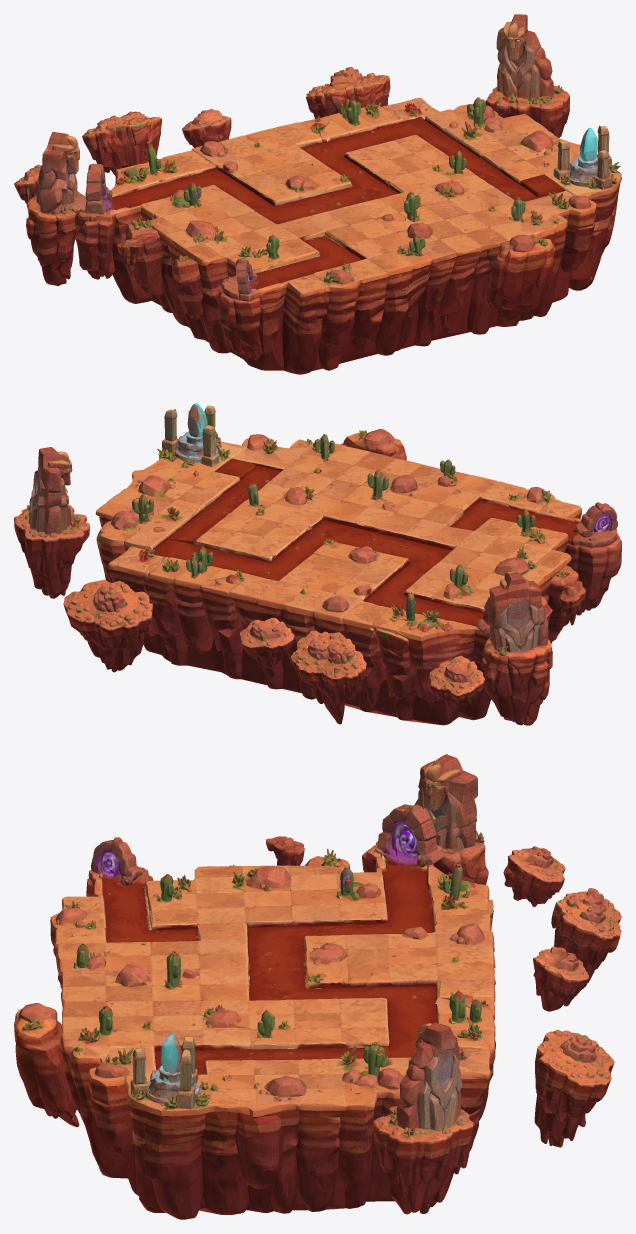
File: canyon.glb
The picture shows the model from 3 angles, top to bottom: view 1: azimuth 30°, elevation 25°; view 2: azimuth 150°, elevation 25°; view 3: azimuth 270°, elevation 25°; orthographic projection. The views are drawn at different scales.
Parts seen in each view (by area): view 1: Mesh_0; view 2: Mesh_0; view 3: Mesh_0.
Boxes of the visible parts, x1,y1,x2,y2 form: Mesh_0: (14,14,621,374); Mesh_0: (14,403,621,725); Mesh_0: (14,754,621,1219).
Size of the model in its own units: 1.9 by 0.6 by 1.53.
Materials: 1 (1 with a texture image).
